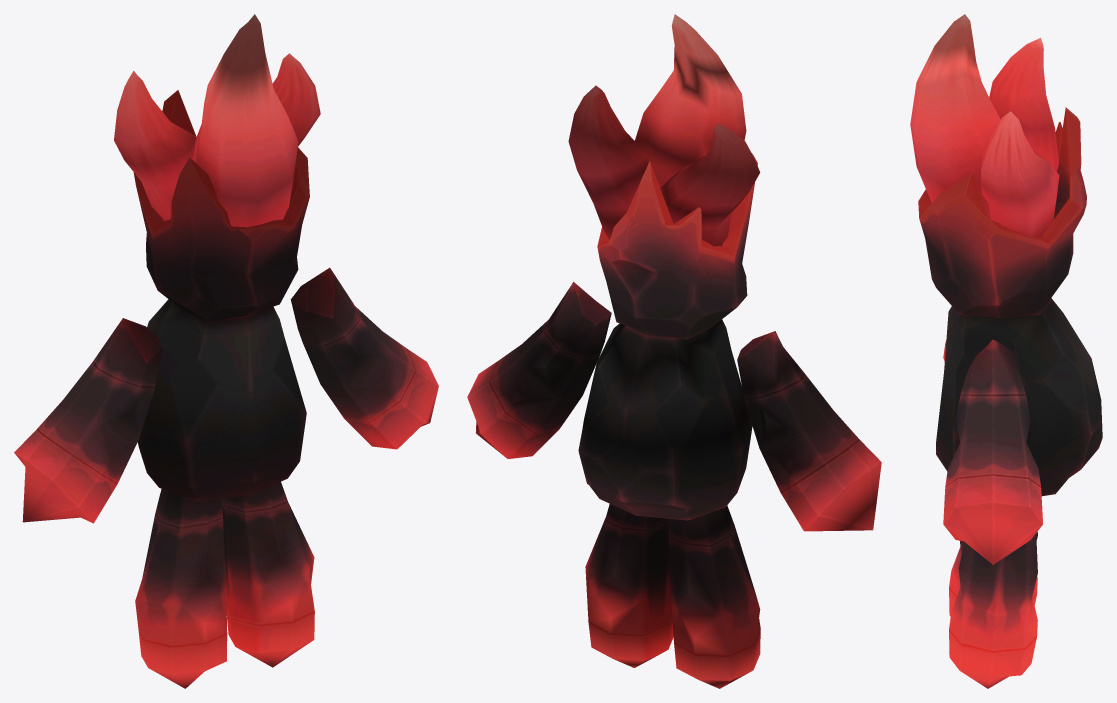
The model's file is mvr_petmgm2501-et02.glb.
The picture shows the model from 3 angles, left to right: view 1: azimuth 30°, elevation 25°; view 2: azimuth 150°, elevation 25°; view 3: azimuth 270°, elevation 25°; orthographic projection. The views are drawn at different scales.
Visible parts, largest first — view 1: MonsterMesh; view 2: MonsterMesh; view 3: MonsterMesh.
Boxes of the visible parts, box(x1,y1,x2,y2) form: MonsterMesh: box(14, 14, 438, 688); MonsterMesh: box(467, 14, 881, 688); MonsterMesh: box(910, 14, 1102, 688).
Bounding box in the file's own units: 0.6735 × 1.06 × 0.2791.
Materials: 1 (1 with a texture image).
